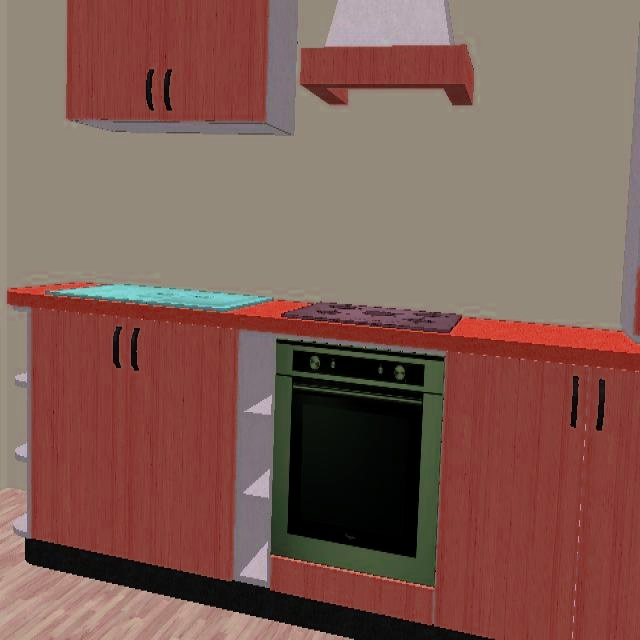cabinet: (26, 307, 640, 638), (66, 0, 296, 132)
countertop: (8, 285, 640, 369)
oven: (272, 338, 445, 586)
stove: (282, 302, 461, 332)
